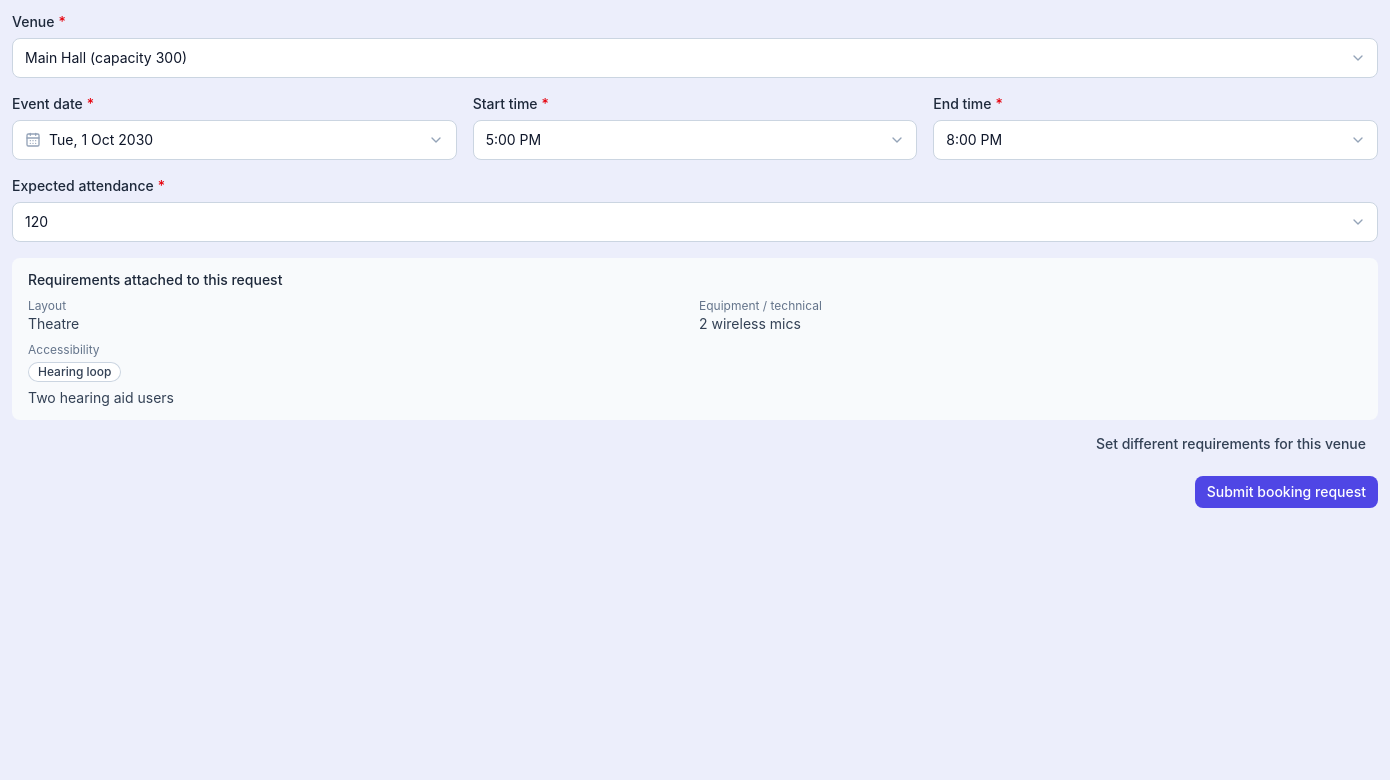
Scenario: US-20 AC-4, AC-5, AC-6: what happens on submit › shows which confirmed booking blocks the request
Click the button "Submit booking request" at (1286, 492), box [1195, 476, 1378, 508]
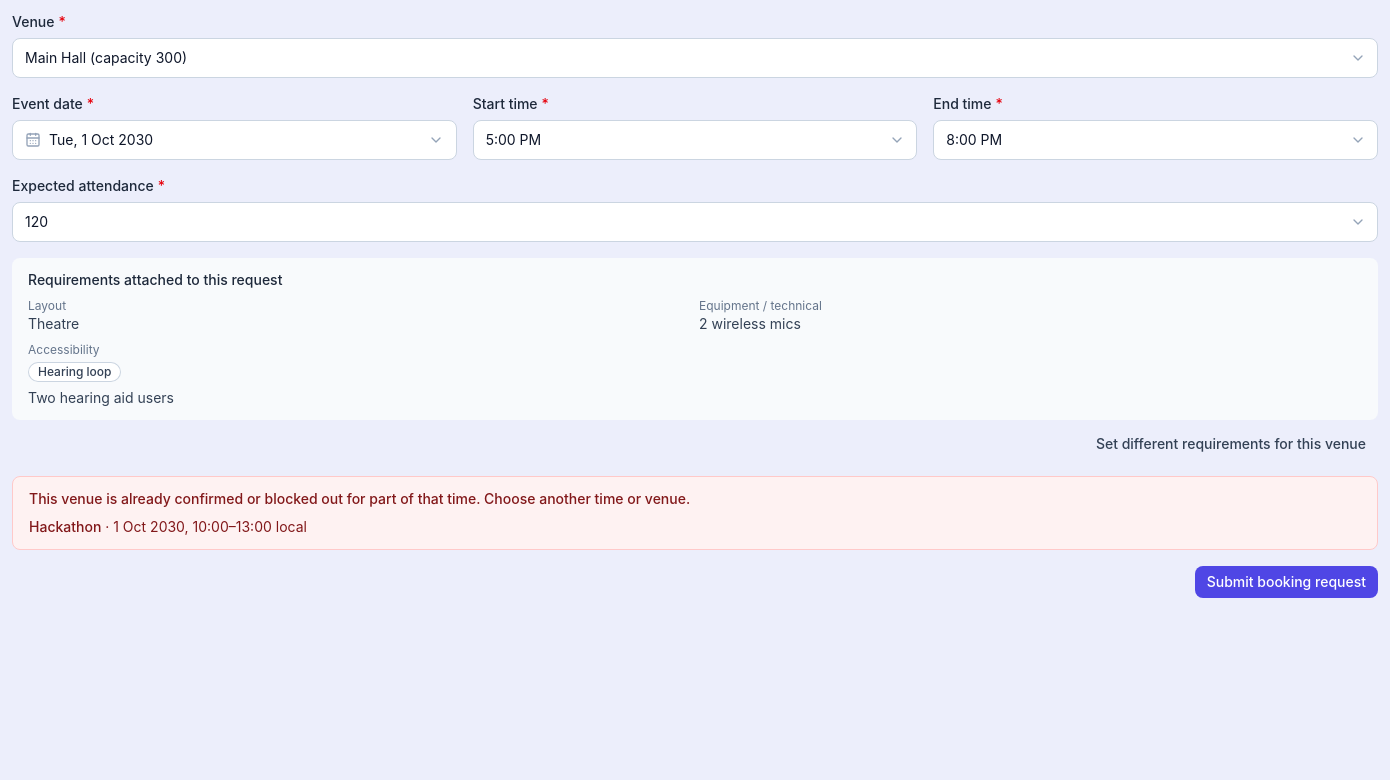
Check: the message shows "already confirmed or blocked out", box [29, 490, 690, 507]
Check: the message shows "Hackathon", box [29, 518, 101, 535]
